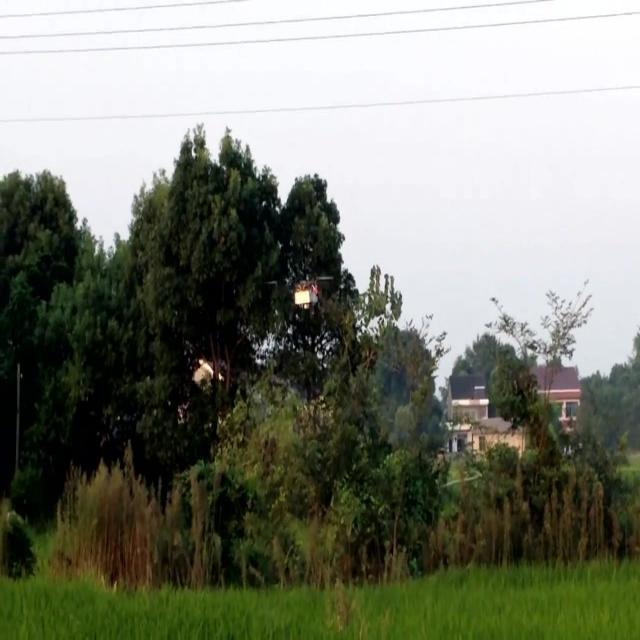UAV: (264, 275, 334, 309)
